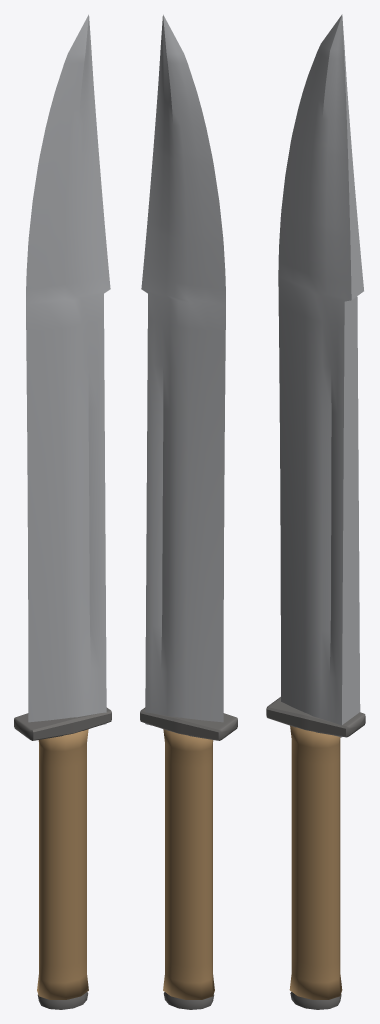
Rendered from broken-back-seax.glb.
3 renders of one model, left to right at view 1: azimuth 30°, elevation 25°; view 2: azimuth 150°, elevation 25°; view 3: azimuth 330°, elevation 25°, orthographic.
Visible parts, largest first — view 1: broken-back-seax; view 2: broken-back-seax; view 3: broken-back-seax.
Part boxes in pixels (bbox=[...]): broken-back-seax: bbox=[14, 14, 111, 1009]; broken-back-seax: bbox=[140, 14, 237, 1009]; broken-back-seax: bbox=[266, 14, 365, 1009].
Bounding box in the file's own units: 0.14 × 1.56 × 0.0643.
